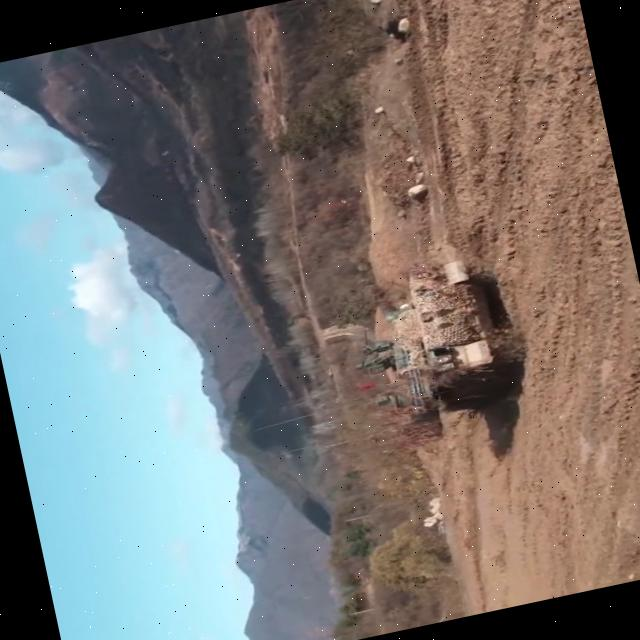korea tank: (322, 243, 540, 460)
